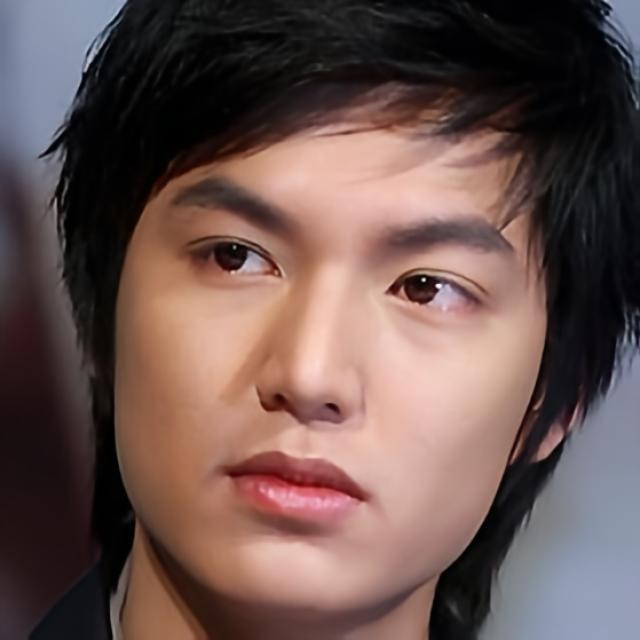neutral: (114, 92, 538, 618)
